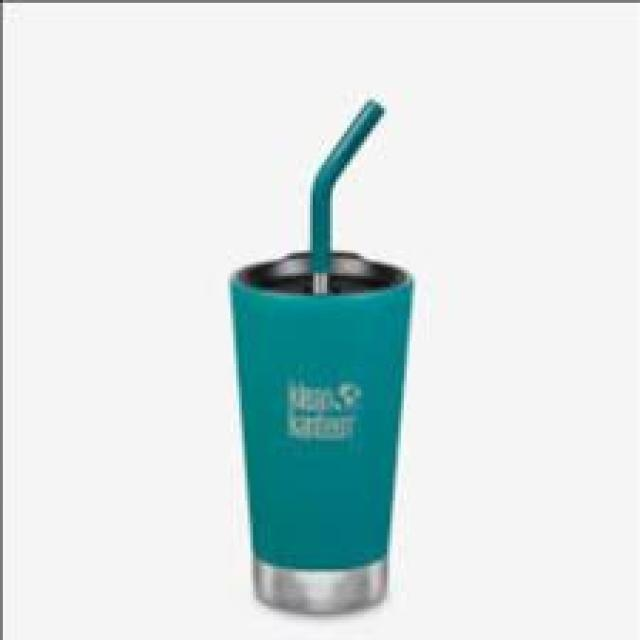bottle: (222, 248, 415, 618)
